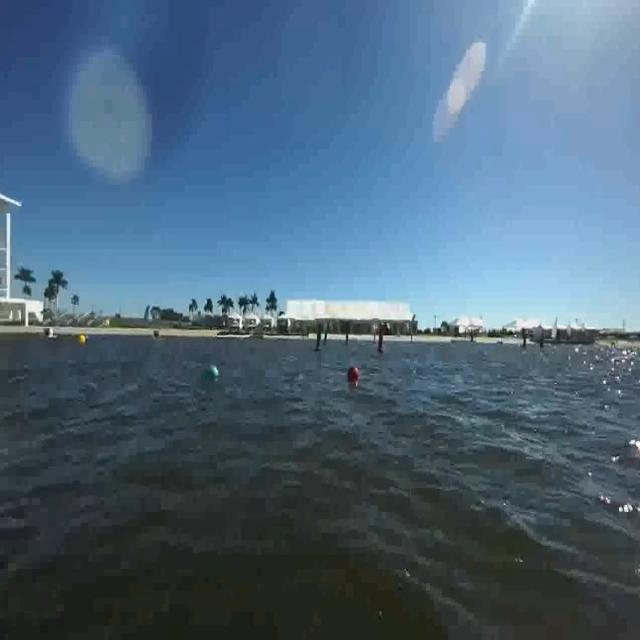green-buoy: (197, 366, 221, 386)
green-column-buoy: (314, 323, 325, 354)
red-buoy: (349, 368, 358, 382)
yellow-buoy: (78, 334, 86, 348)
